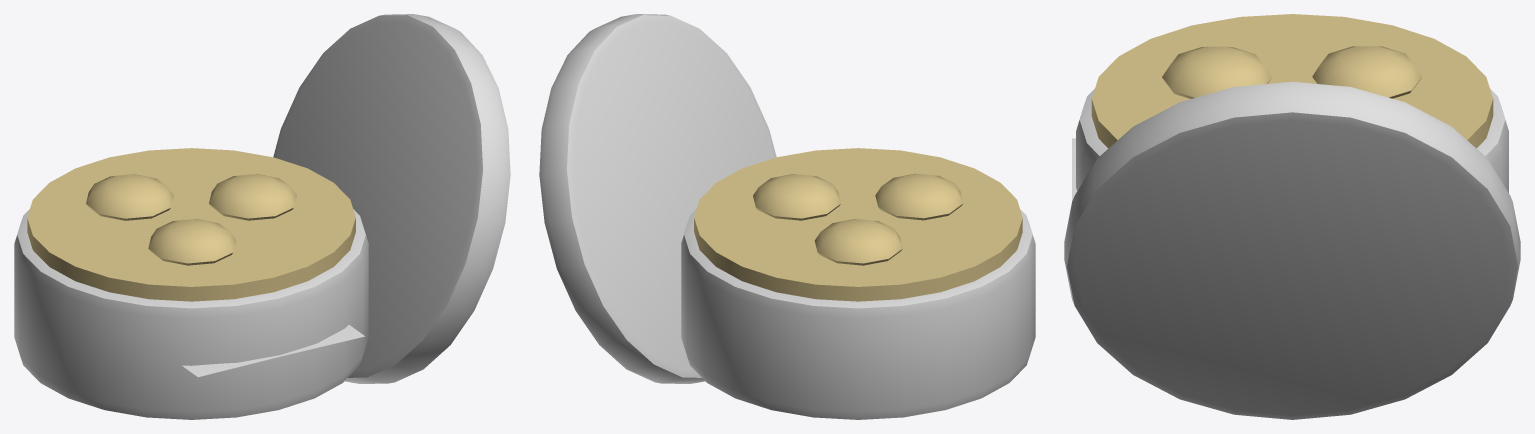
File: troll_fat_salve.glb
The picture shows the model from 3 angles, left to right: view 1: azimuth 30°, elevation 25°; view 2: azimuth 150°, elevation 25°; view 3: azimuth 270°, elevation 25°; orthographic projection. The views are drawn at different scales.
Parts seen in each view (by area): view 1: troll_fat_salve; view 2: troll_fat_salve; view 3: troll_fat_salve.
Part boxes in pixels (<box>): troll_fat_salve: <box>14,14,510,419</box>; troll_fat_salve: <box>539,14,1035,419</box>; troll_fat_salve: <box>1064,14,1520,419</box>.
Bounding box in the file's own units: 0.1514 × 0.1103 × 0.116.
